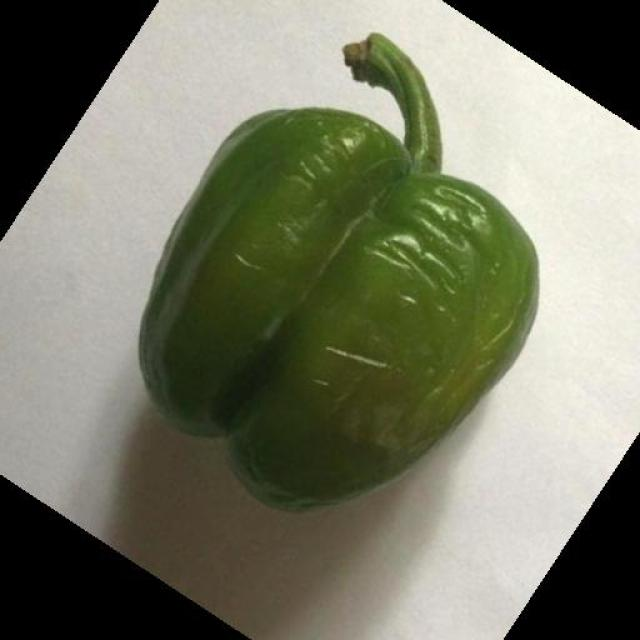Stale_Capsicum: (184, 85, 520, 472)
